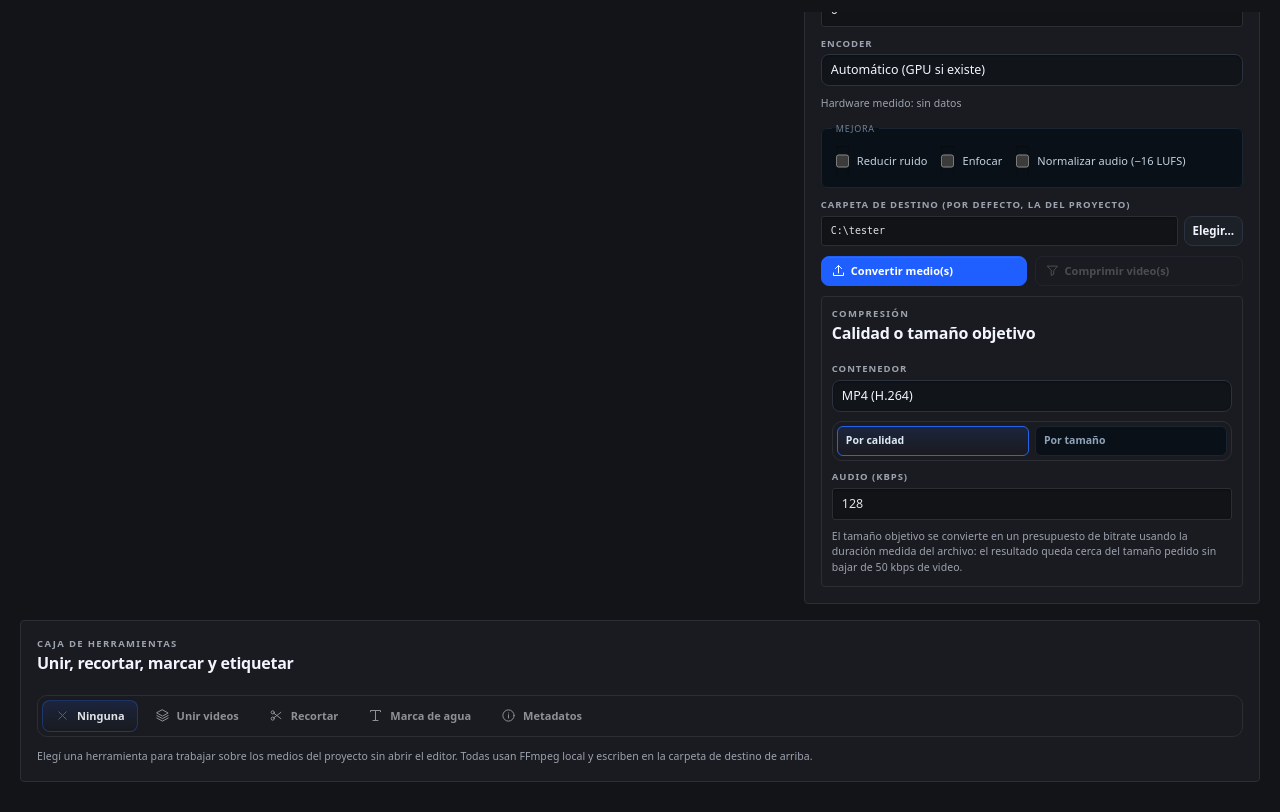
Test case: ConvertView · caja de herramientas › la pestaña Marca de agua pide texto y posición
(page scrolled)
Click the tab "Marca de agua".
click(420, 716)  # box [355,700,484,732]
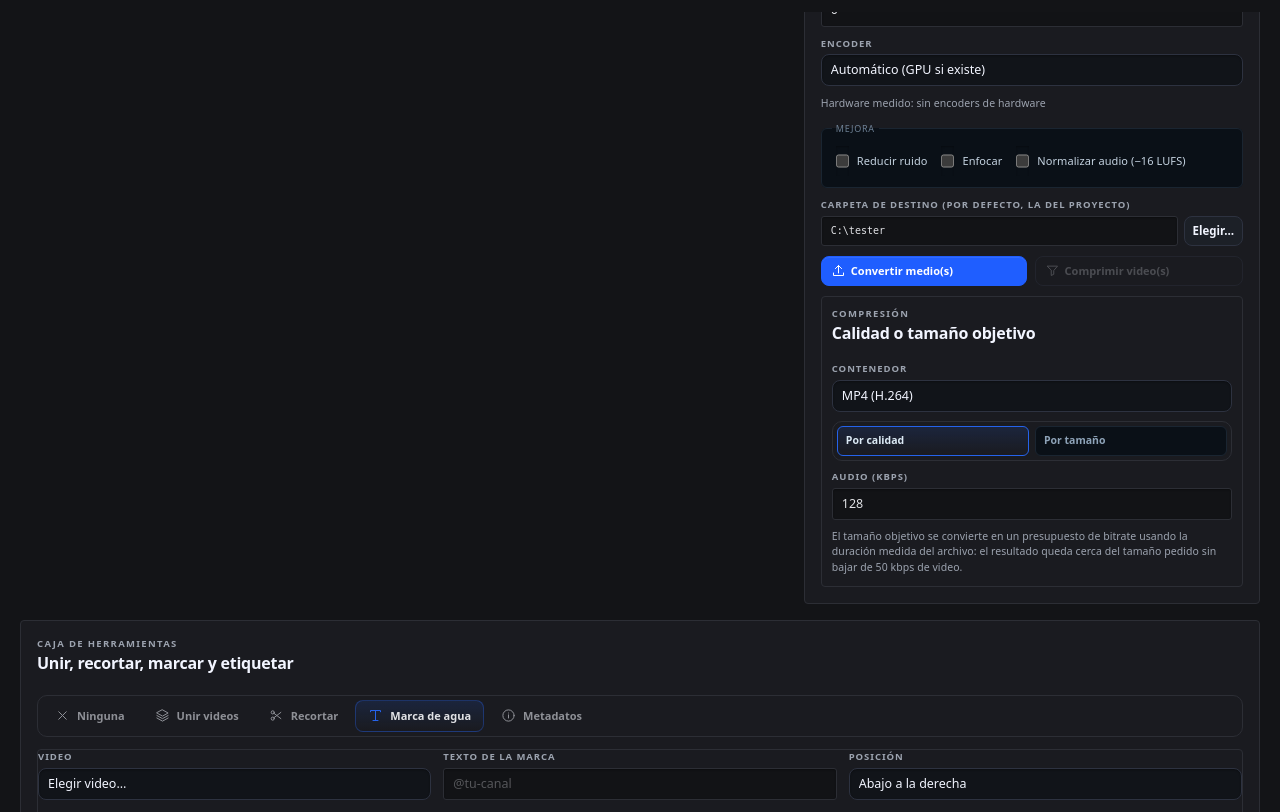
Result: the field with placeholder "@tu-canal" is shown at [443,768,837,800]
Result: the dropdown labelled "Posición" is shown at [849,768,1242,800]
